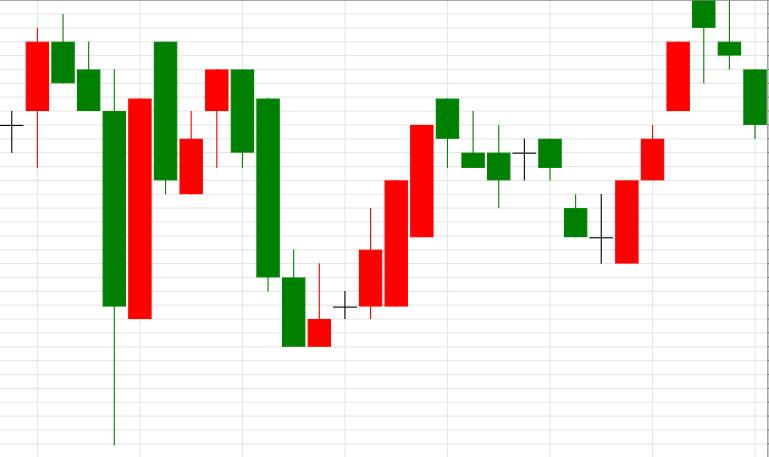hanging_man_fall: (615, 0, 715, 264)
inverse_hammer_rise: (231, 70, 331, 348)
three_white_soldiers_rise: (436, 42, 690, 264)
